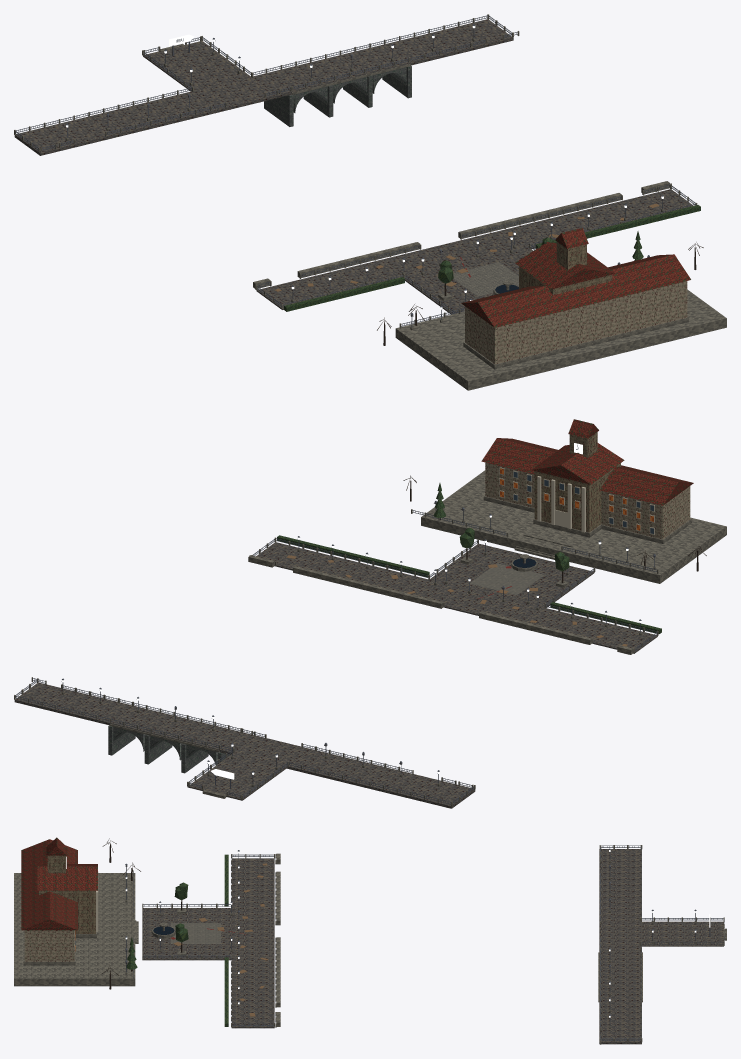
File: MB_Shared_Arrival_FERI.fbx
3 renders of one model, top to bottom at view 1: azimuth 30°, elevation 25°; view 2: azimuth 150°, elevation 25°; view 3: azimuth 270°, elevation 25°, orthographic. The views are drawn at different scales.
Visible parts, largest first — view 1: Floor_Merge, Floor_Fork, MB_Shared_Arrival_FERI_Dressing_-2_0, MB_Shared_Arrival_FERI_Dressing_-2_-1, HallWing, MB_Shared_Arrival_FERI_Dressing_0_0.001, Floor_FERI, MB_Shared_Arrival_FERI_Dressing_5_0, Floor_Arrival, MB_Shared_Arrival_FERI_Dressing_1_0.001, MB_Shared_Arrival_FERI_Dressing_-2_0.001, PlazaInlay (+4 smaller); view 2: MB_Shared_Arrival_FERI_Dressing_-2_0, Floor_Merge, Floor_Fork, MB_Shared_Arrival_FERI_Dressing_-2_-1, HallWing, Floor_Arrival, MB_Shared_Arrival_FERI_Dressing_0_0.001, MB_Shared_Arrival_FERI_Dressing_-2_0.001, Floor_FERI, MB_Shared_Arrival_FERI_Dressing_5_0, MB_Shared_Arrival_FERI_Dressing_1_0.001, PlazaInlay (+5 smaller); view 3: Floor_Merge, MB_Shared_Arrival_FERI_Dressing_-2_0, Floor_Fork, MB_Shared_Arrival_FERI_Dressing_-2_-1, Floor_Arrival, Floor_FERI, MB_Shared_Arrival_FERI_Dressing_0_0.001, HallWing, MB_Shared_Arrival_FERI_Dressing_-2_0.001, PlazaInlay, MB_Shared_Arrival_FERI_Dressing_-1_0.002, MB_Shared_Arrival_FERI_Dressing_1_0.001 (+2 smaller).
Boxes of the visible parts, x1=… form: Floor_Merge: x1=14, y1=19, x2=513, y2=155; Floor_Fork: x1=256, y1=189, x2=693, y2=309; MB_Shared_Arrival_FERI_Dressing_-2_0: x1=395, y1=289, x2=726, y2=390; MB_Shared_Arrival_FERI_Dressing_-2_-1: x1=461, y1=228, x2=690, y2=327; HallWing: x1=465, y1=281, x2=687, y2=364; MB_Shared_Arrival_FERI_Dressing_0_0.001: x1=14, y1=14, x2=697, y2=249; Floor_FERI: x1=143, y1=41, x2=252, y2=92; MB_Shared_Arrival_FERI_Dressing_5_0: x1=264, y1=66, x2=411, y2=126; Floor_Arrival: x1=405, y1=248, x2=533, y2=314; MB_Shared_Arrival_FERI_Dressing_1_0.001: x1=458, y1=181, x2=669, y2=238; MB_Shared_Arrival_FERI_Dressing_-2_0.001: x1=519, y1=241, x2=612, y2=295; PlazaInlay: x1=453, y1=262, x2=518, y2=296; MB_Shared_Arrival_FERI_Dressing_-2_0: x1=421, y1=470, x2=726, y2=583; Floor_Merge: x1=14, y1=682, x2=475, y2=808; Floor_Fork: x1=256, y1=542, x2=657, y2=653; MB_Shared_Arrival_FERI_Dressing_-2_-1: x1=481, y1=419, x2=693, y2=505; HallWing: x1=485, y1=462, x2=690, y2=539; Floor_Arrival: x1=430, y1=543, x2=594, y2=607; MB_Shared_Arrival_FERI_Dressing_0_0.001: x1=14, y1=537, x2=475, y2=806; MB_Shared_Arrival_FERI_Dressing_-2_0.001: x1=534, y1=432, x2=620, y2=532; Floor_FERI: x1=187, y1=751, x2=287, y2=800; MB_Shared_Arrival_FERI_Dressing_5_0: x1=108, y1=725, x2=229, y2=773; MB_Shared_Arrival_FERI_Dressing_1_0.001: x1=248, y1=555, x2=443, y2=608; PlazaInlay: x1=470, y1=563, x2=543, y2=594; Floor_Merge: x1=599, y1=849, x2=641, y2=1044; MB_Shared_Arrival_FERI_Dressing_-2_0: x1=14, y1=873, x2=135, y2=986; Floor_Fork: x1=231, y1=858, x2=274, y2=1028; MB_Shared_Arrival_FERI_Dressing_-2_-1: x1=21, y1=837, x2=97, y2=930; Floor_Arrival: x1=142, y1=908, x2=231, y2=960; Floor_FERI: x1=638, y1=921, x2=723, y2=946; MB_Shared_Arrival_FERI_Dressing_0_0.001: x1=187, y1=845, x2=724, y2=1044; HallWing: x1=24, y1=930, x2=74, y2=961; MB_Shared_Arrival_FERI_Dressing_-2_0.001: x1=39, y1=855, x2=95, y2=933; PlazaInlay: x1=171, y1=923, x2=220, y2=943; MB_Shared_Arrival_FERI_Dressing_-1_0.002: x1=126, y1=923, x2=188, y2=971; MB_Shared_Arrival_FERI_Dressing_1_0.001: x1=276, y1=937, x2=280, y2=1026.
Bounding box in the file's own units: 12980 × 3740 × 19980.
Materials: 21 (12 with a texture image).
